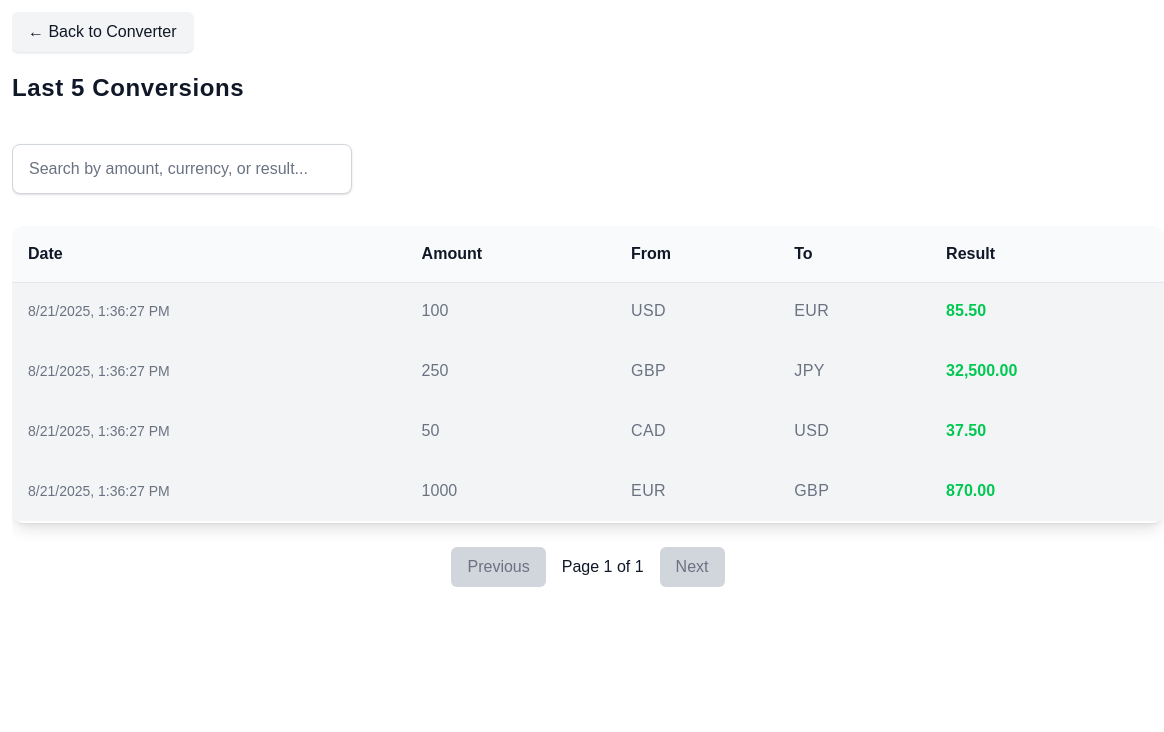
Test case: TransactionHistory › filters transactions by toCurrency
Note: Search for EUR
Type "EUR" into the field with placeholder "Search by amount, currency, or result..." at (182, 169), box [12,144,352,194]
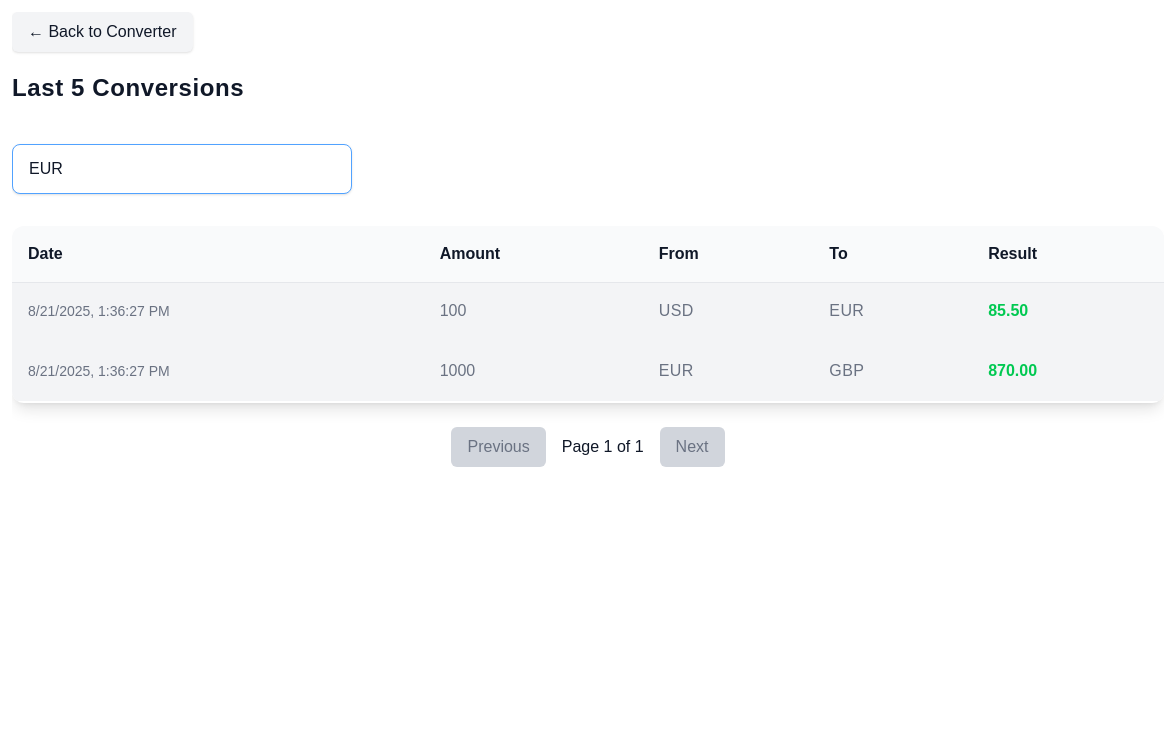
Expected: the text "EUR" is shown 2 times, [813,282,972,341]; [643,341,813,401]
